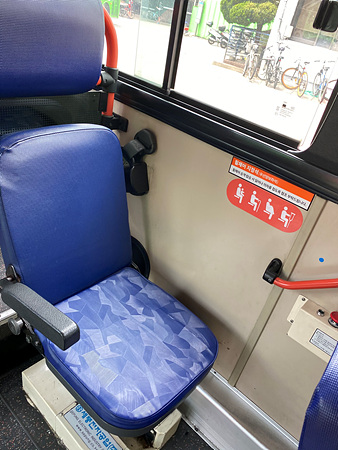seat: (1, 125, 218, 425)
